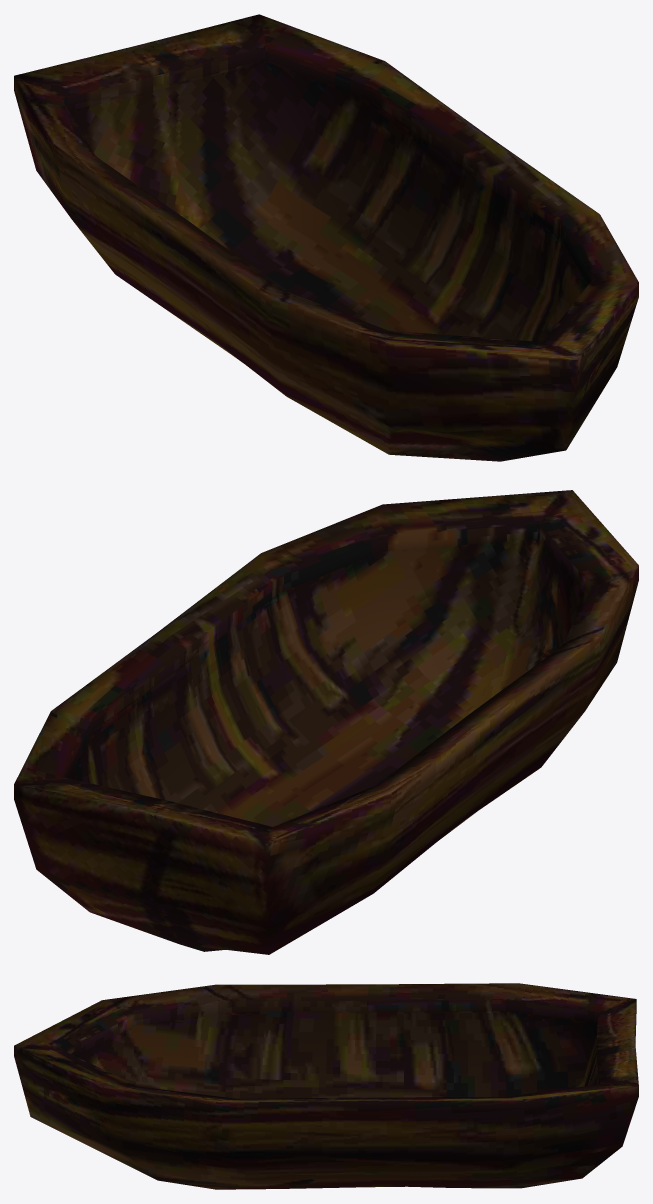
File: SM_Boat_01_without_seats.fbx
The picture shows the model from 3 angles, top to bottom: view 1: azimuth 30°, elevation 25°; view 2: azimuth 150°, elevation 25°; view 3: azimuth 270°, elevation 25°; orthographic projection. The views are drawn at different scales.
Parts seen in each view (by area): view 1: boat; view 2: boat; view 3: boat.
Boxes of the visible parts, left/top/right/bottom form: boat: left=14, top=14, right=638, bottom=461; boat: left=14, top=490, right=638, bottom=954; boat: left=14, top=983, right=638, bottom=1189.
Bounding box in the file's own units: 171 × 90.14 × 380.
1 material, 1 textured.
